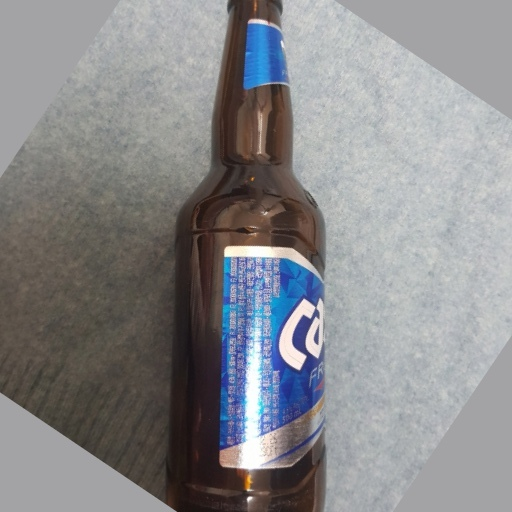Glass_1: (163, 2, 326, 512)
